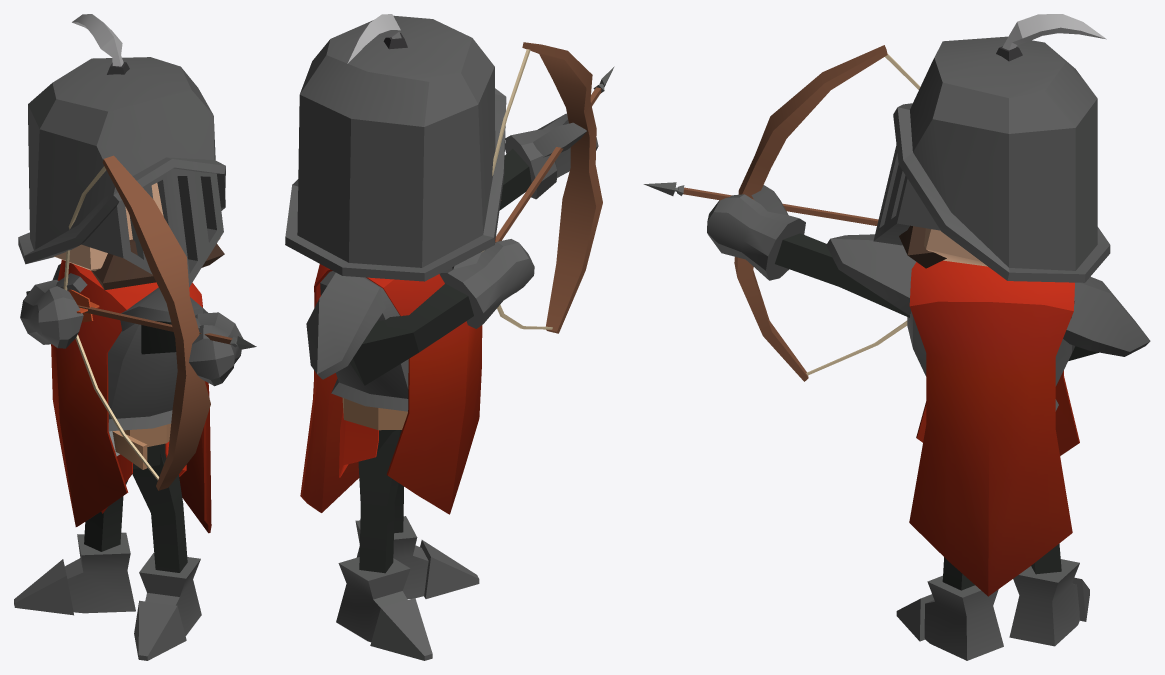
The model's file is Warrior_1.fbx.
The picture shows the model from 3 angles, left to right: view 1: azimuth 30°, elevation 25°; view 2: azimuth 150°, elevation 25°; view 3: azimuth 270°, elevation 25°; orthographic projection. The views are drawn at different scales.
Parts seen in each view (by area): view 1: Warrior_1; view 2: Warrior_1; view 3: Warrior_1.
Part boxes in pixels (x1,y1,x2,y2): Warrior_1: [14, 14, 256, 660]; Warrior_1: [285, 14, 614, 660]; Warrior_1: [643, 14, 1150, 660].
Size of the model in its own units: 48.44 by 132 by 98.68.
